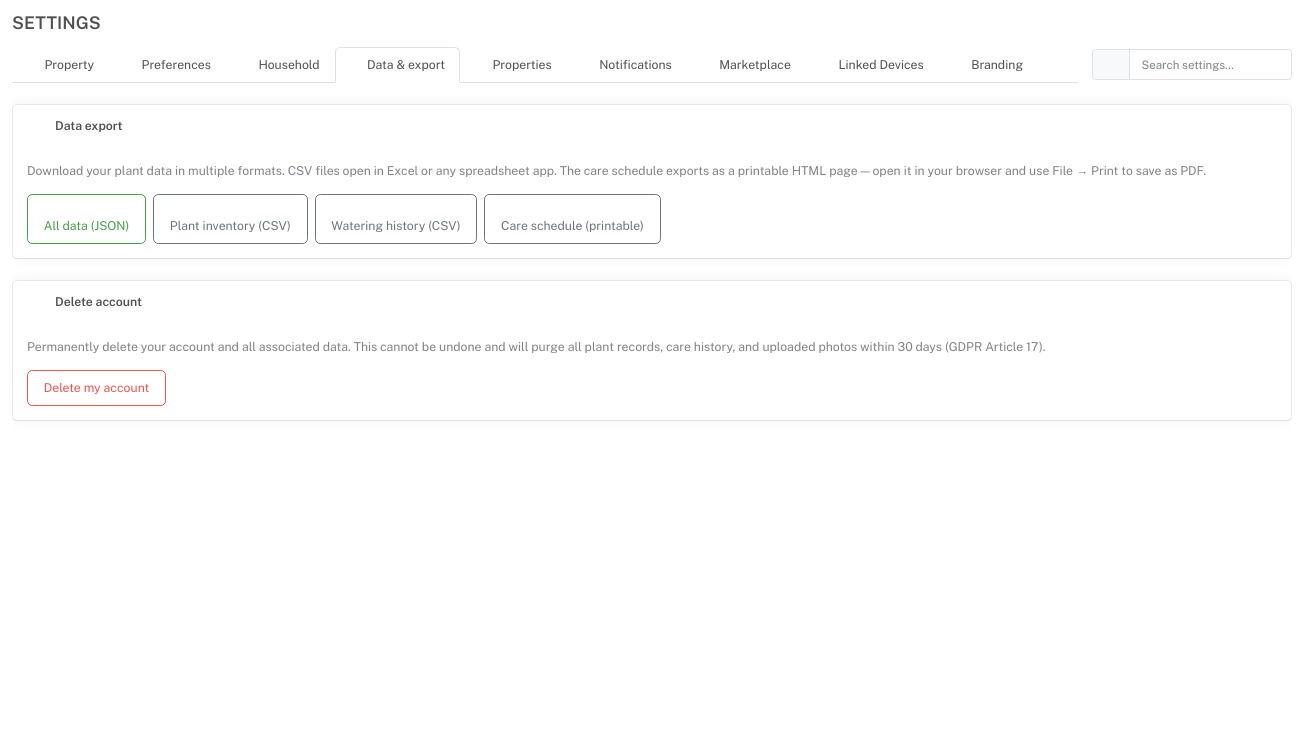
SettingsPage Data tab › enables the confirm button only when DELETE is typed
Step 1. Click the button "Delete my account" → (96, 388), box [27,370,166,406]
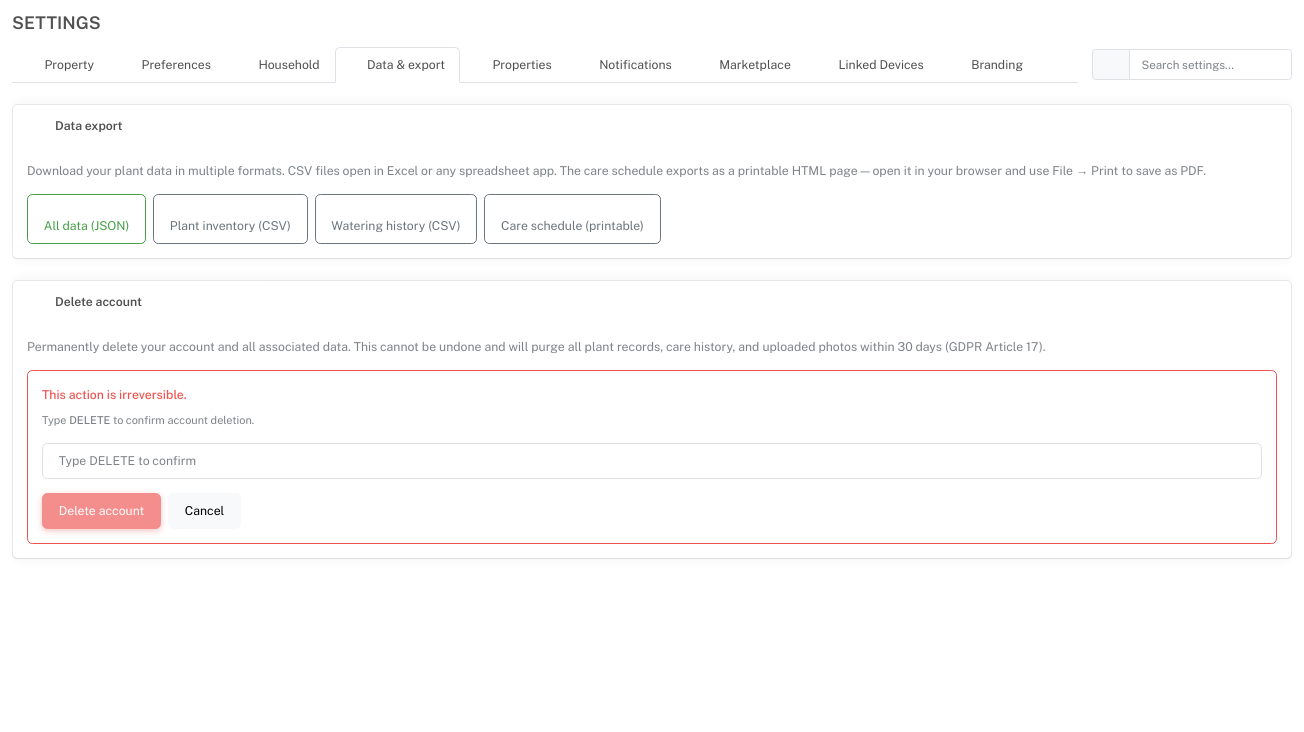
Step 2. Type "delete" into the field with placeholder "Type DELETE to confirm" → (652, 461), box [42,444,1262,479]
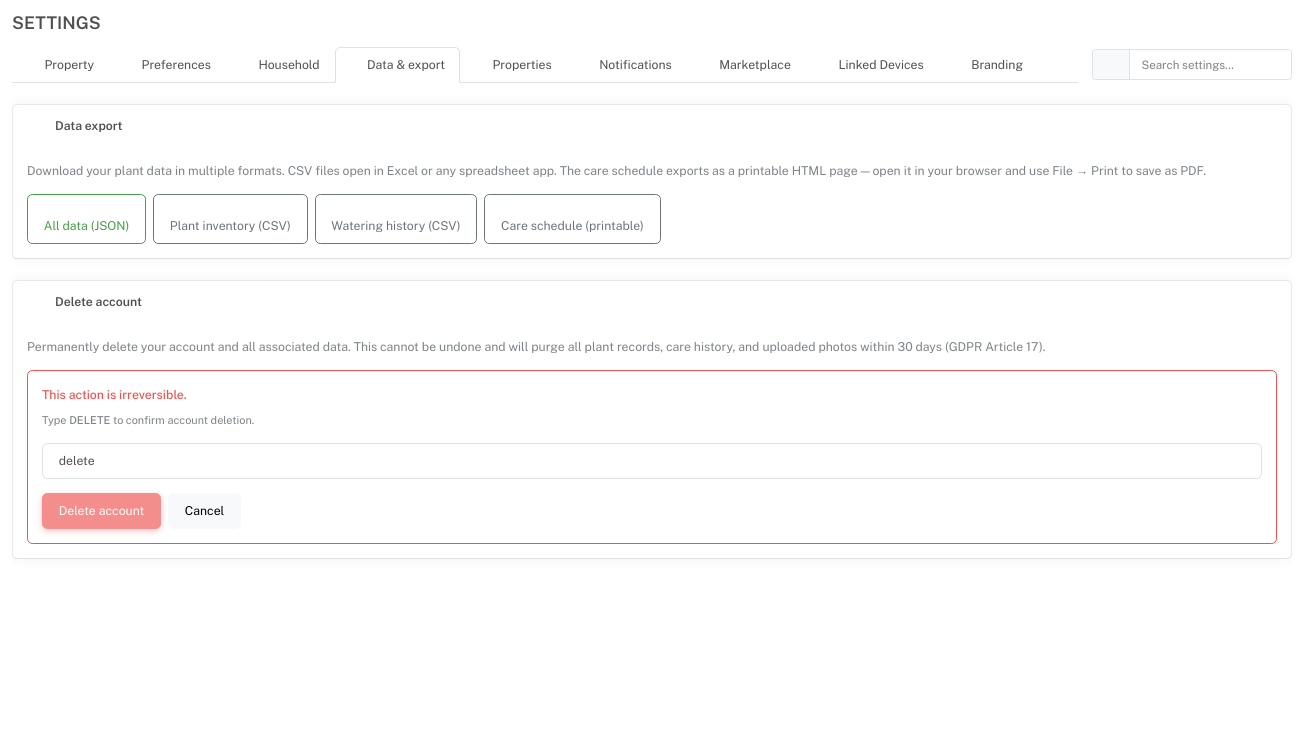
Now the button "Delete account" is disabled, box [42,493,161,529]
Step 3. Replace the text in the field with placeholder "Type DELETE to confirm" with "DELETE" → (652, 461), box [42,444,1262,479]
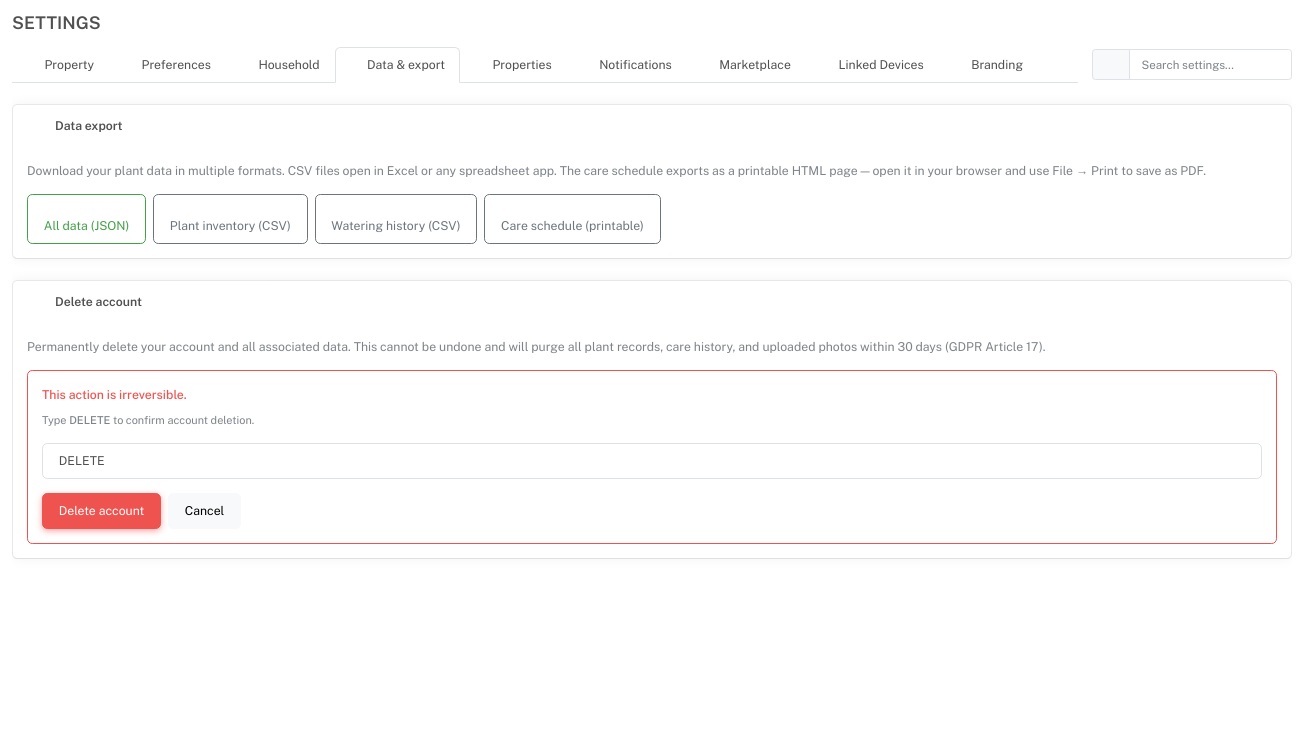
Now the button "Delete account" is enabled, box [42,493,161,529]
